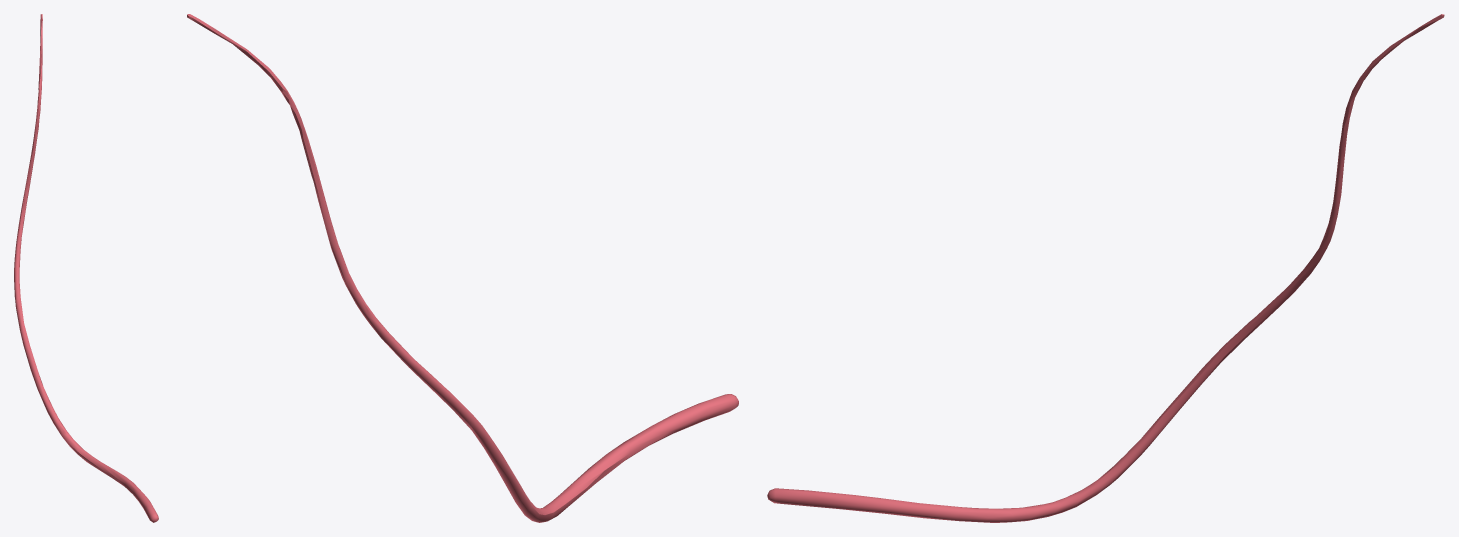
File: fma50358_fj1698m.glb
3 renders of one model, left to right at view 1: azimuth 30°, elevation 25°; view 2: azimuth 150°, elevation 25°; view 3: azimuth 270°, elevation 25°, orthographic. The views are drawn at different scales.
Visible parts, largest first — view 1: FMA50358_FJ1698M; view 2: FMA50358_FJ1698M; view 3: FMA50358_FJ1698M.
Part boxes in pixels (box(x1,y1,x2,y2)): FMA50358_FJ1698M: box(14, 14, 158, 522); FMA50358_FJ1698M: box(187, 14, 738, 522); FMA50358_FJ1698M: box(767, 14, 1444, 522).
Size of the model in its own units: 0.00862 by 0.03 by 0.0326.
